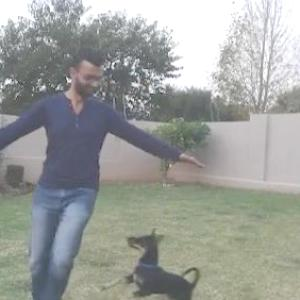land: (0, 60, 170, 284)
